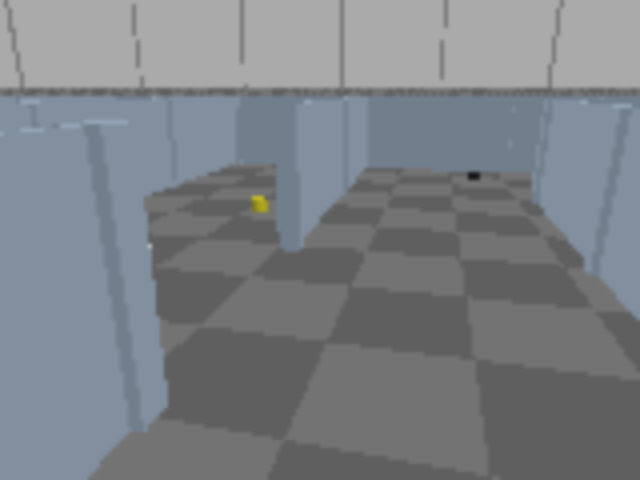puck: (250, 197, 267, 214)
